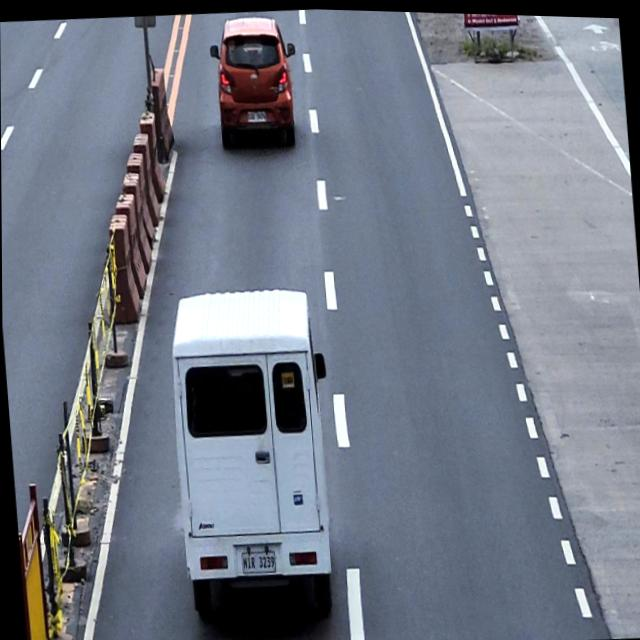Car: (163, 279, 343, 621), (207, 11, 301, 150)
License-Plate: (238, 547, 276, 573), (245, 107, 267, 122)
